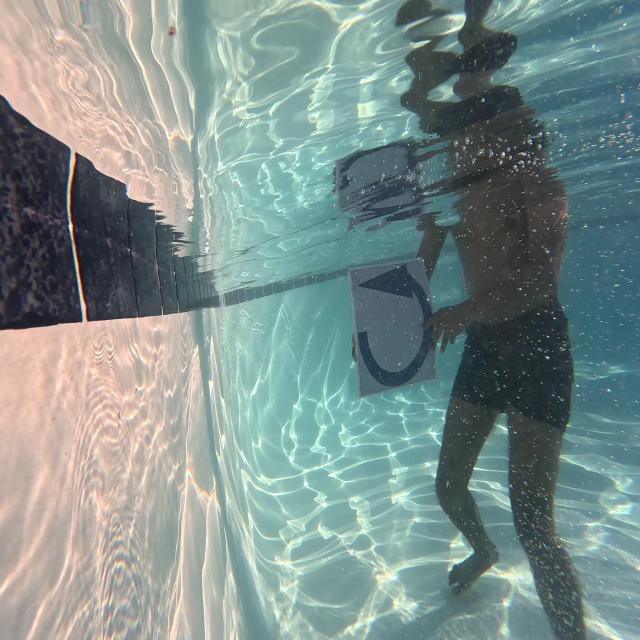blue_side: (352, 258, 437, 394)
